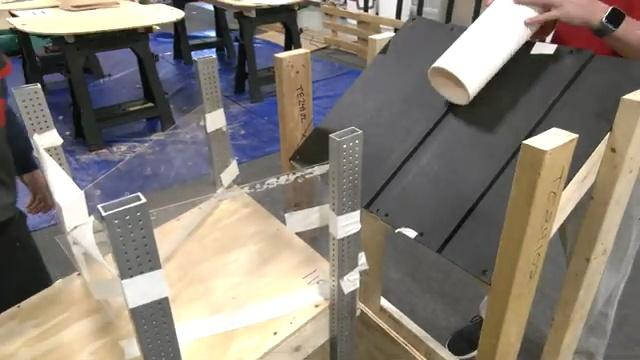CORAL: (426, 0, 546, 106)
